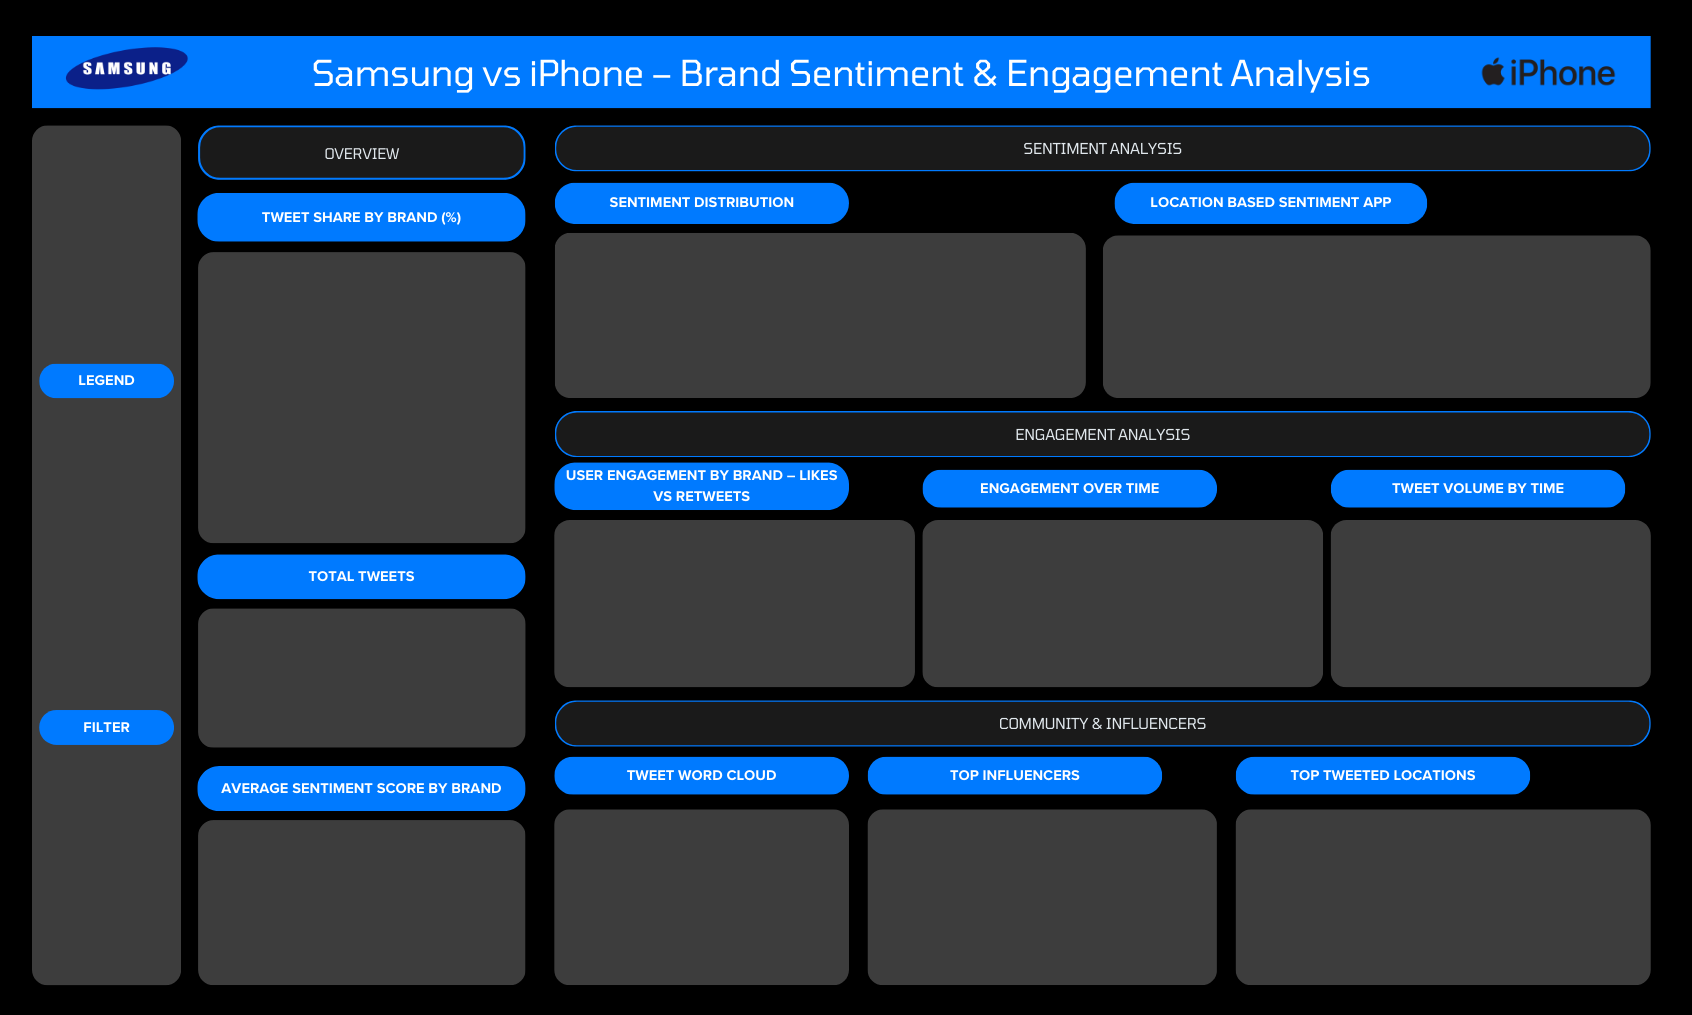

The dashboard page shown, as its layout file describes it:
{"tool":"tableau","page":{"name":"Samsung vs iPhone – Brand Sentiment & Engagement Analysis","canvas":[1657,851],"ordinal":0},"visuals":[{"type":"image","param":"Image/template dashboard.png","box":[8,8,1641,835]},{"type":"worksheet","title":"Brand Recognition through Visualization","mark":"Shape","cols":["Brand"],"box":[165,113,122,192]},{"type":"worksheet","title":"Sentiment Distribution","mark":"Bar","rows":["Sentiment"],"cols":["Brand"],"box":[599,198,420,127]},{"type":"worksheet","title":"Location-Based Sentiment Map","mark":"Multipolygon","box":[1036,203,448,135]},{"type":"worksheet","title":"Tweet Share by Brand (%)","mark":"Pie","rows":["Calculation_1098315425665638403","Calculation_1098315425665638403"],"box":[300,223,267,229]},{"type":"legend","title":"Tweet Share by Brand (%)","param":"[federated.10sfsdz0jbxxw01281byl0ztzul4].[none:Brand:nk]","box":[165,343,119,59]},{"type":"legend","title":"Sentiment Distribution","param":"[federated.10sfsdz0jbxxw01281byl0ztzul4].[none:Sentiment:nk]","box":[165,423,118,79]},{"type":"worksheet","title":"Tweet Volume by Time","mark":"Bar","rows":["Tweet"],"cols":["Time"],"box":[1220,436,264,135]},{"type":"worksheet","title":"Engagement Over Time","mark":"Line","rows":["Engagement"],"cols":["Calculation_1098315425661562882"],"box":[885,440,324,127]},{"type":"worksheet","title":"User Engagement by Brand – Likes vs Retweets","mark":"Bar","rows":["Brand"],"box":[593,460,288,90]},{"type":"legend","title":"User Engagement by Brand – Likes vs Retweets","param":"[federated.10sfsdz0jbxxw01281byl0ztzul4].[:Measure Names]","box":[165,516,120,61]},{"type":"worksheet","title":"Total Tweets","mark":"Automatic","box":[299,525,261,77]},{"type":"filter","title":"Sentiment Distribution","param":"[federated.10sfsdz0jbxxw01281byl0ztzul4].[none:Brand:nk]","box":[167,623,120,113]},{"type":"worksheet","title":"Tweet Word Cloud","mark":"Text","box":[589,671,243,141]},{"type":"worksheet","title":"Top Influencers","mark":"Automatic","rows":["Engagement"],"cols":["Username"],"box":[843,671,285,141]},{"type":"worksheet","title":"Top Tweeted Locations","mark":"Automatic","rows":["Location"],"cols":["Tweet"],"box":[1146,674,338,140]},{"type":"worksheet","title":"Average Sentiment Score by Brand","mark":"Automatic","rows":["Brand"],"cols":["Sentiment Score"],"box":[300,701,265,103]},{"type":"filter","title":"Tweet Word Cloud","param":"[federated.10sfsdz0jbxxw01281byl0ztzul4].[none:Frequency:qk]","box":[171,745,114,57]}]}

Visuals, with their boxes on the page's 1657x851 design canvas (x1, y1, x2, y2). These are canvas units, not pixel positions in the 1692x1015 screenshot, which may show the page scaled, cropped or inside an application window:
image: (8,8,1649,843)
"Brand Recognition through Visualization" worksheet (Shape marks): (165,113,287,305)
"Sentiment Distribution" worksheet (Bar marks): (599,198,1019,325)
"Location-Based Sentiment Map" worksheet (Multipolygon marks): (1036,203,1484,338)
"Tweet Share by Brand (%)" worksheet (Pie marks): (300,223,567,452)
"Tweet Share by Brand (%)" legend: (165,343,284,402)
"Sentiment Distribution" legend: (165,423,283,502)
"Tweet Volume by Time" worksheet (Bar marks): (1220,436,1484,571)
"Engagement Over Time" worksheet (Line marks): (885,440,1209,567)
"User Engagement by Brand – Likes vs Retweets" worksheet (Bar marks): (593,460,881,550)
"User Engagement by Brand – Likes vs Retweets" legend: (165,516,285,577)
"Total Tweets" worksheet: (299,525,560,602)
"Sentiment Distribution" filter: (167,623,287,736)
"Tweet Word Cloud" worksheet (Text marks): (589,671,832,812)
"Top Influencers" worksheet: (843,671,1128,812)
"Top Tweeted Locations" worksheet: (1146,674,1484,814)
"Average Sentiment Score by Brand" worksheet: (300,701,565,804)
"Tweet Word Cloud" filter: (171,745,285,802)
